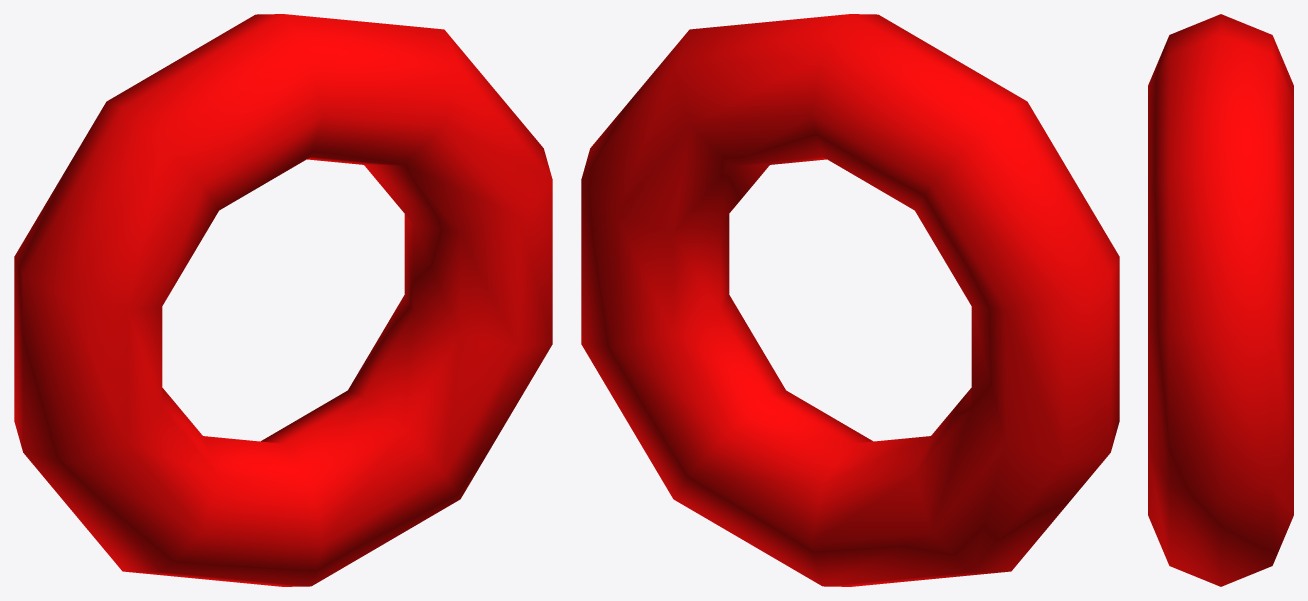
The model's file is WitchShop_Handle2.fbx.
3 renders of one model, left to right at view 1: azimuth 30°, elevation 25°; view 2: azimuth 150°, elevation 25°; view 3: azimuth 270°, elevation 25°, orthographic. The views are drawn at different scales.
Visible parts, largest first — view 1: Handle2; view 2: Handle2; view 3: Handle2.
Boxes of the visible parts, bbox=[...] form: Handle2: bbox=[14, 14, 552, 586]; Handle2: bbox=[581, 14, 1119, 586]; Handle2: bbox=[1148, 14, 1293, 586].
Size of the model in its own units: 18.82 by 19.79 by 4.95.
